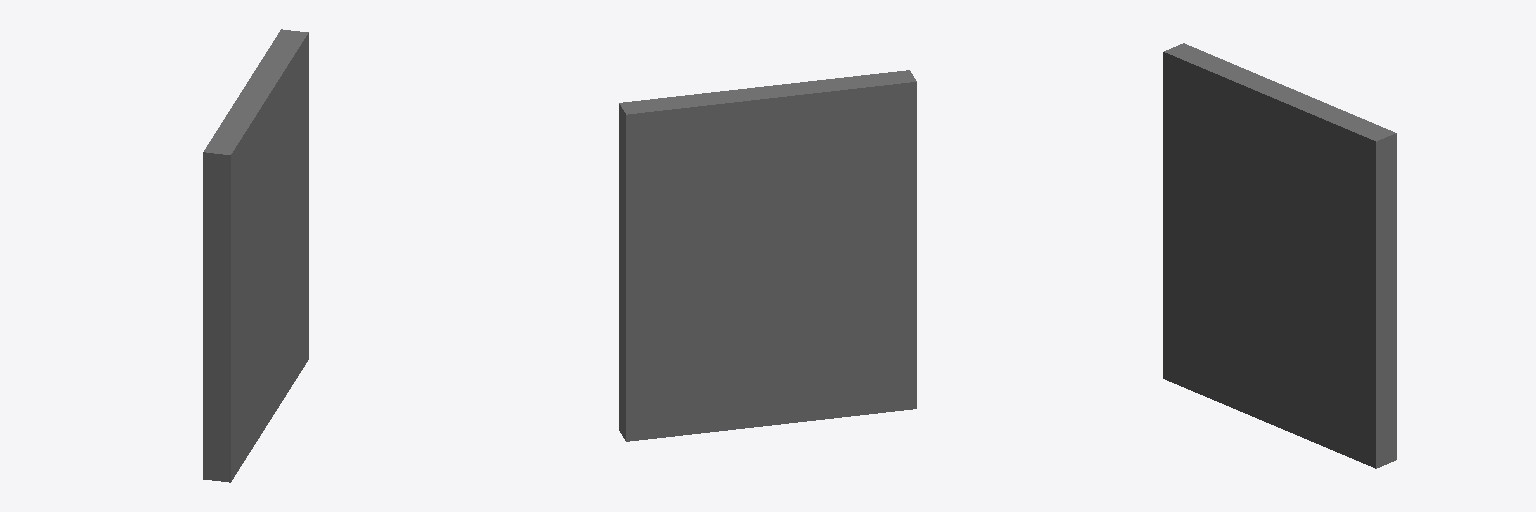
The model's file is ElevatorDoor_v1.obj.
3 views of the same model, side by side, from view 1: azimuth 30°, elevation 25°; view 2: azimuth 150°, elevation 25°; view 3: azimuth 270°, elevation 25° (orthographic).
Parts seen in each view (by area): view 1: pPlane3 polySurface2827, polySurface2826 pPlane3; view 2: polySurface2826 pPlane3, pPlane3 polySurface2827; view 3: polySurface2826 pPlane3, pPlane3 polySurface2827.
Boxes of the visible parts, x1,y1,x2,y2 form: pPlane3 polySurface2827: [203, 91, 269, 482]; polySurface2826 pPlane3: [242, 29, 308, 419]; polySurface2826 pPlane3: [619, 87, 771, 441]; pPlane3 polySurface2827: [764, 70, 916, 424]; polySurface2826 pPlane3: [1270, 88, 1396, 468]; pPlane3 polySurface2827: [1163, 43, 1288, 423].
Bounding box in the file's own units: 194 × 300 × 194.